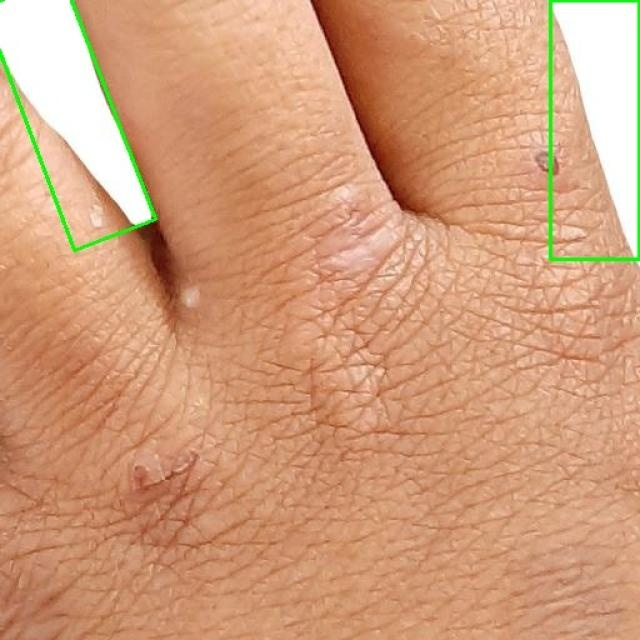Scabies: (0, 0, 158, 250), (550, 0, 639, 259)
